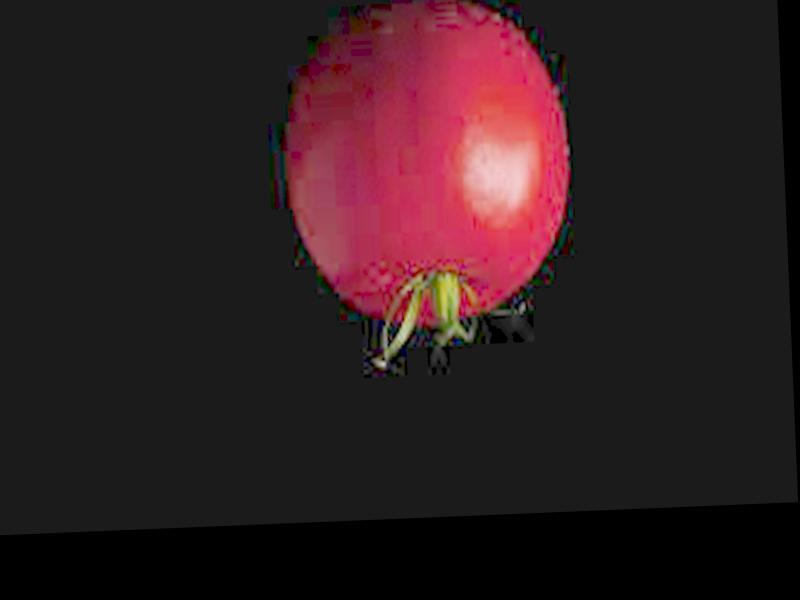Tomato: (281, 3, 573, 329)
